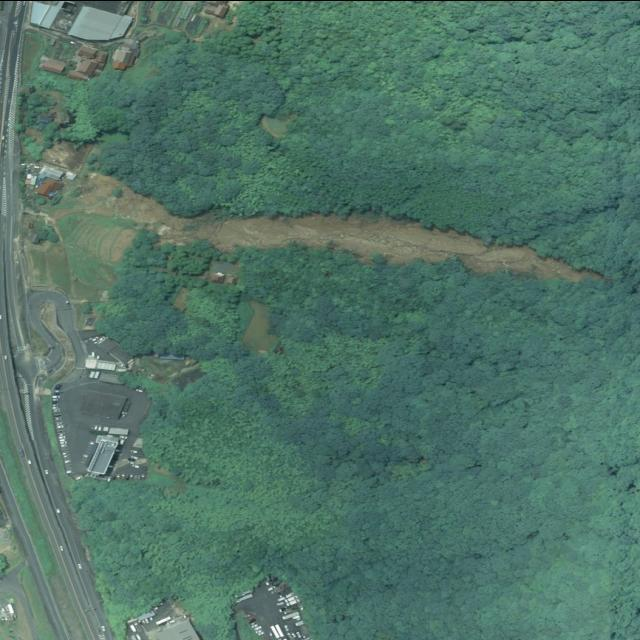landslide: (51, 170, 608, 281)
